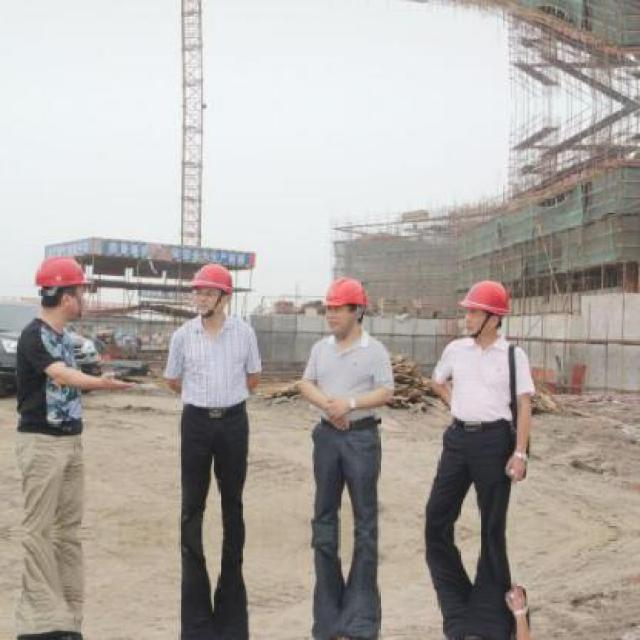helmet: (456, 278, 513, 318), (34, 254, 90, 289), (322, 276, 374, 311), (192, 259, 236, 292)
